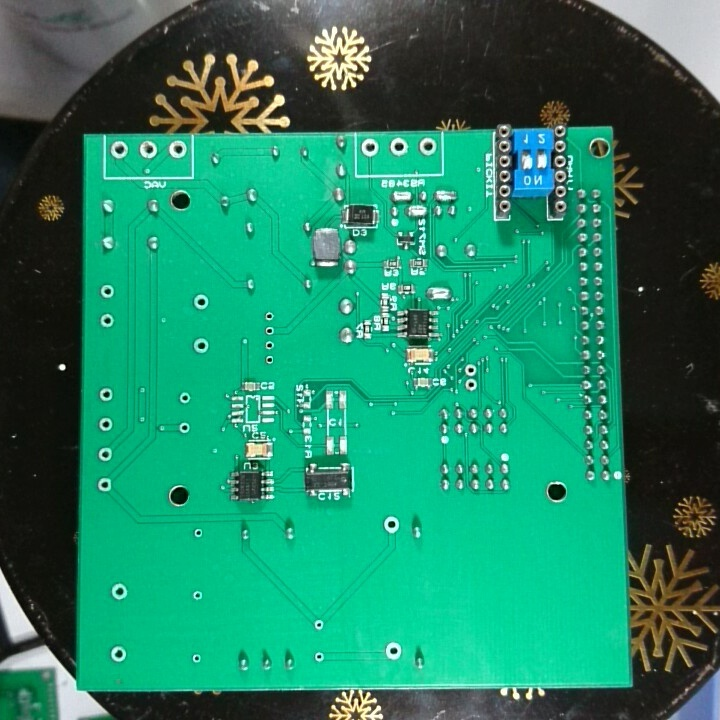F: (379, 512, 402, 538), (108, 580, 131, 604), (382, 638, 404, 663), (136, 138, 159, 161), (388, 136, 411, 158), (108, 138, 129, 162), (166, 138, 188, 160), (416, 135, 437, 158), (359, 137, 380, 160), (107, 643, 128, 665), (97, 281, 118, 302), (95, 385, 117, 405), (94, 474, 114, 496), (191, 291, 211, 312), (191, 335, 211, 356), (97, 311, 117, 332), (175, 388, 194, 409), (96, 415, 115, 435), (95, 445, 114, 464), (260, 351, 278, 369), (176, 419, 192, 437), (189, 524, 205, 542), (463, 377, 479, 395), (462, 360, 478, 378), (311, 648, 327, 665), (190, 586, 205, 604), (311, 615, 325, 633), (189, 649, 203, 666), (262, 323, 277, 338), (262, 338, 277, 353), (260, 309, 276, 323)
P: (425, 283, 452, 302), (404, 202, 428, 219), (433, 187, 459, 202), (390, 187, 415, 202)
